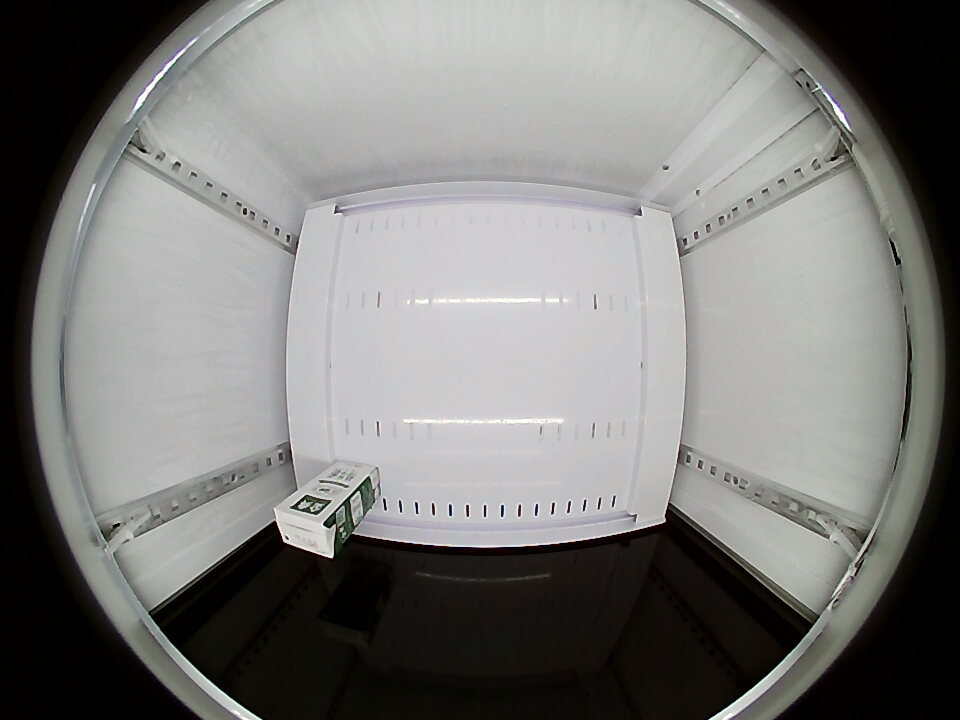jindian: (272, 491, 348, 559)
